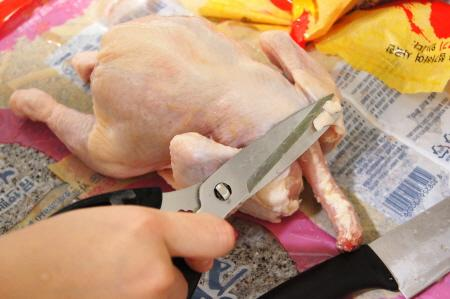chicken: (5, 4, 241, 97)
